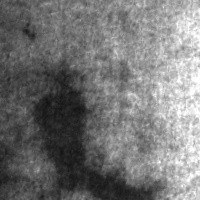patches: (31, 64, 99, 199), (48, 137, 166, 199)
